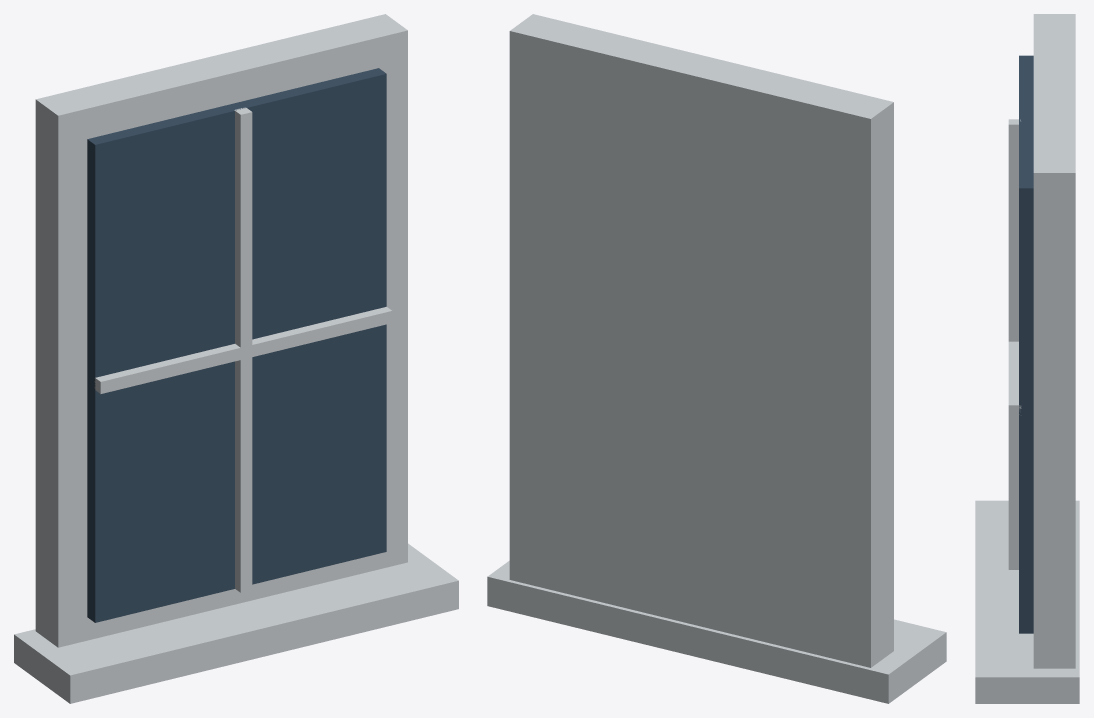
The model's file is janela.glb.
3 renders of one model, left to right at view 1: azimuth 30°, elevation 25°; view 2: azimuth 150°, elevation 25°; view 3: azimuth 270°, elevation 25°, orthographic. The views are drawn at different scales.
Parts seen in each view (by area): view 1: _MeshInstance3D_605, Janela2, _MeshInstance3D_608, _MeshInstance3D_606, _MeshInstance3D_607; view 2: Janela2, _MeshInstance3D_608; view 3: Janela2, _MeshInstance3D_608, _MeshInstance3D_605, _MeshInstance3D_606, _MeshInstance3D_607.
Boxes of the visible parts, left/top/right/bottom form: _MeshInstance3D_605: left=87, top=68, right=386, bottom=622; Janela2: left=35, top=14, right=407, bottom=647; _MeshInstance3D_608: left=14, top=543, right=458, bottom=703; _MeshInstance3D_606: left=234, top=107, right=252, bottom=592; _MeshInstance3D_607: left=94, top=306, right=392, bottom=393; Janela2: left=509, top=14, right=893, bottom=667; _MeshInstance3D_608: left=487, top=560, right=946, bottom=703; Janela2: left=1033, top=14, right=1075, bottom=668; _MeshInstance3D_608: left=975, top=500, right=1079, bottom=703; _MeshInstance3D_605: left=1019, top=55, right=1033, bottom=633; _MeshInstance3D_606: left=1008, top=119, right=1020, bottom=569; _MeshInstance3D_607: left=1008, top=341, right=1021, bottom=416.
Size of the model in its own units: 2 by 2.75 by 0.5.
